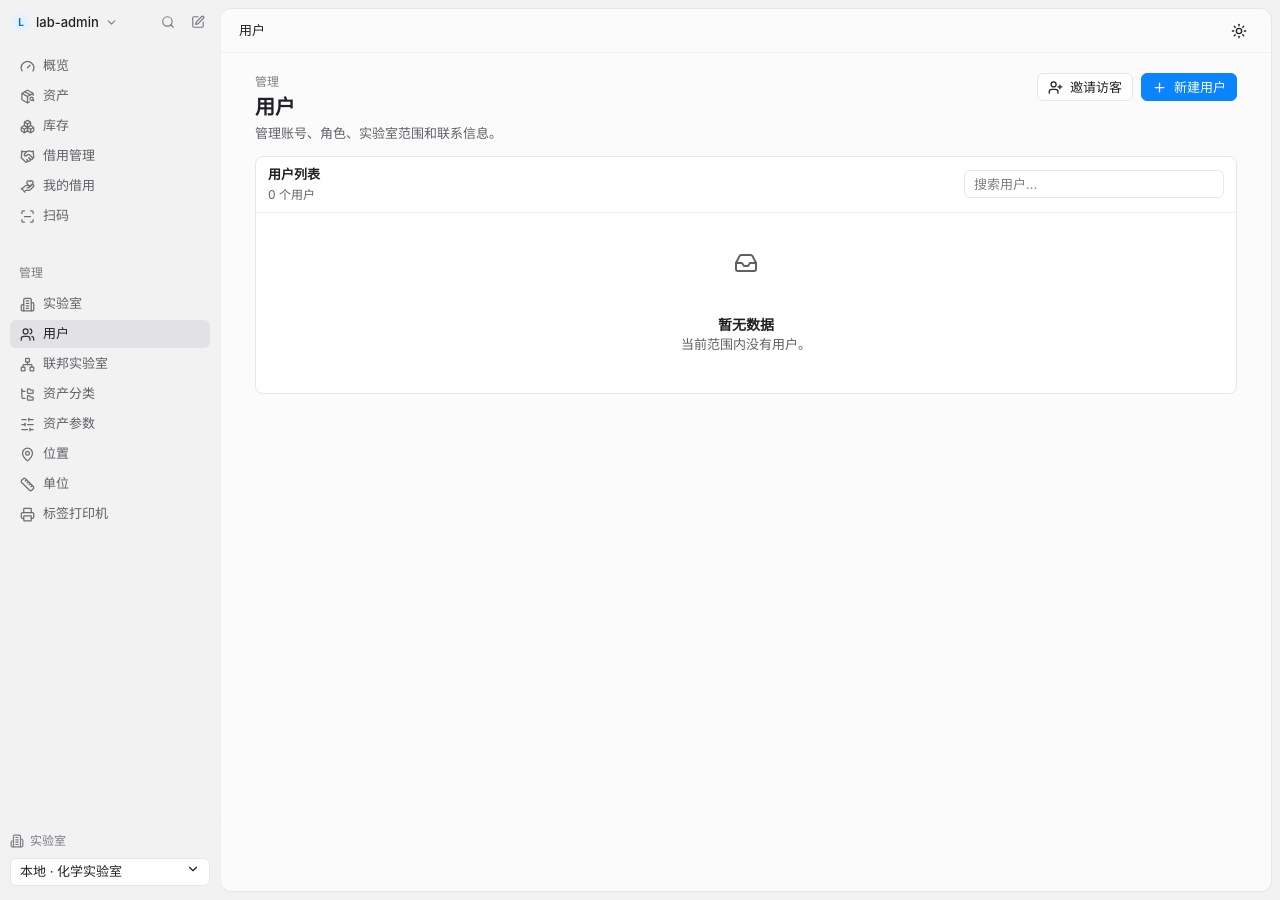
Test: guest invitations › says the code is dead once it expires
This screenshot has width=1280, height=900.
Step 1. Click the button "邀请访客" → (1085, 87), box [1037, 73, 1133, 101]
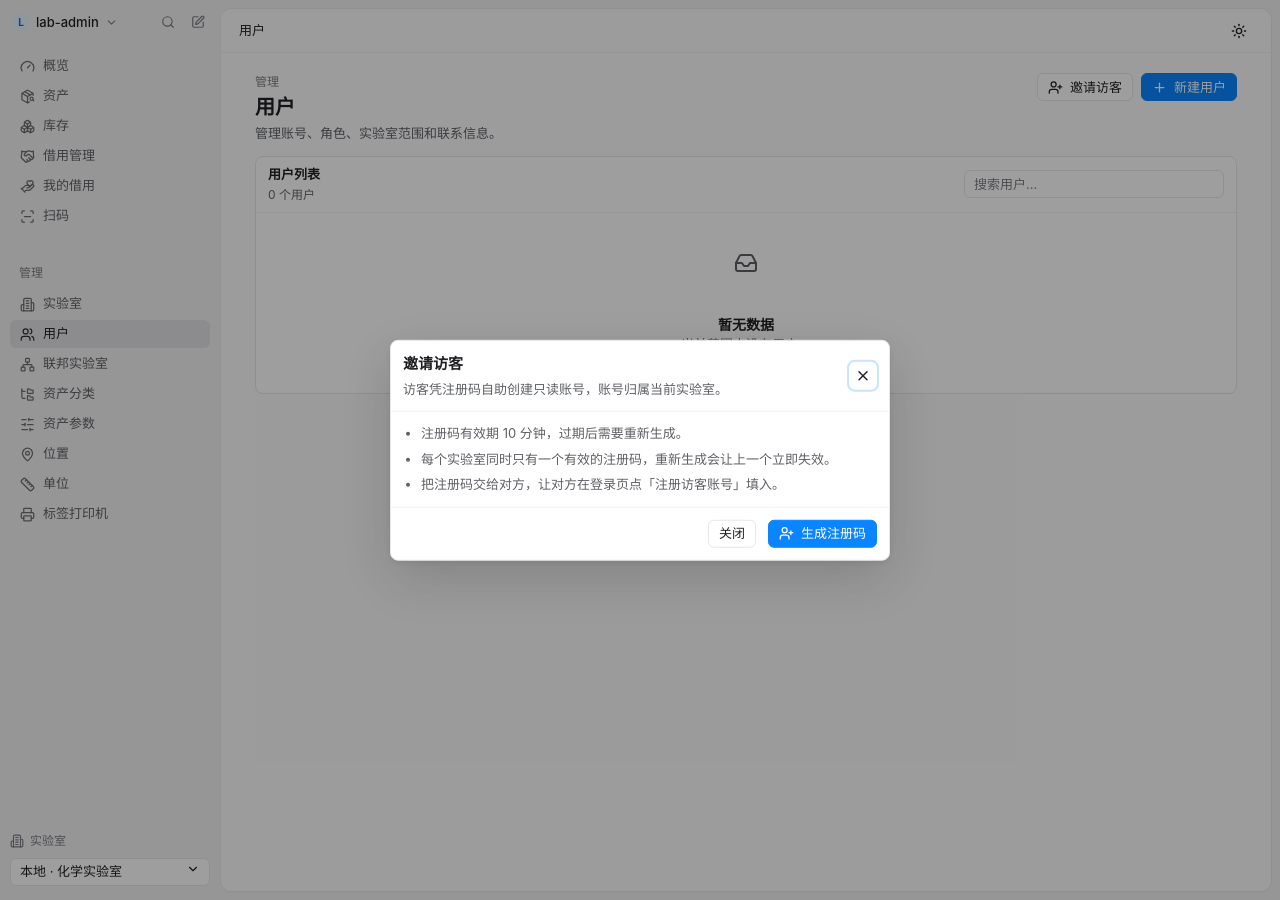
Step 2. Click the button "生成注册码" → (822, 533), box [768, 519, 877, 547]
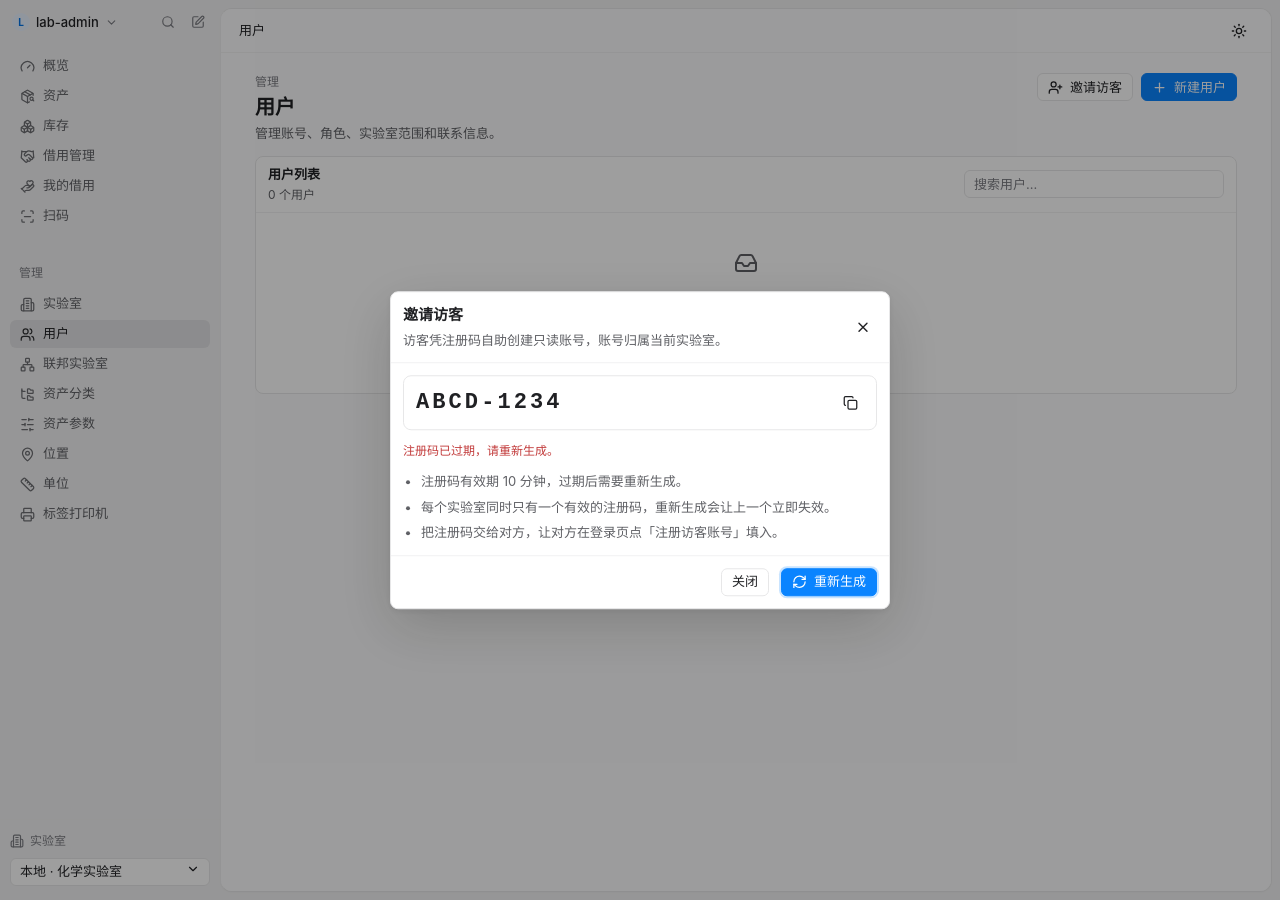
Expected: the text "注册码已过期，请重新生成。" is shown, [403, 443, 559, 458]
